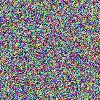dog: (20, 50, 39, 72)
